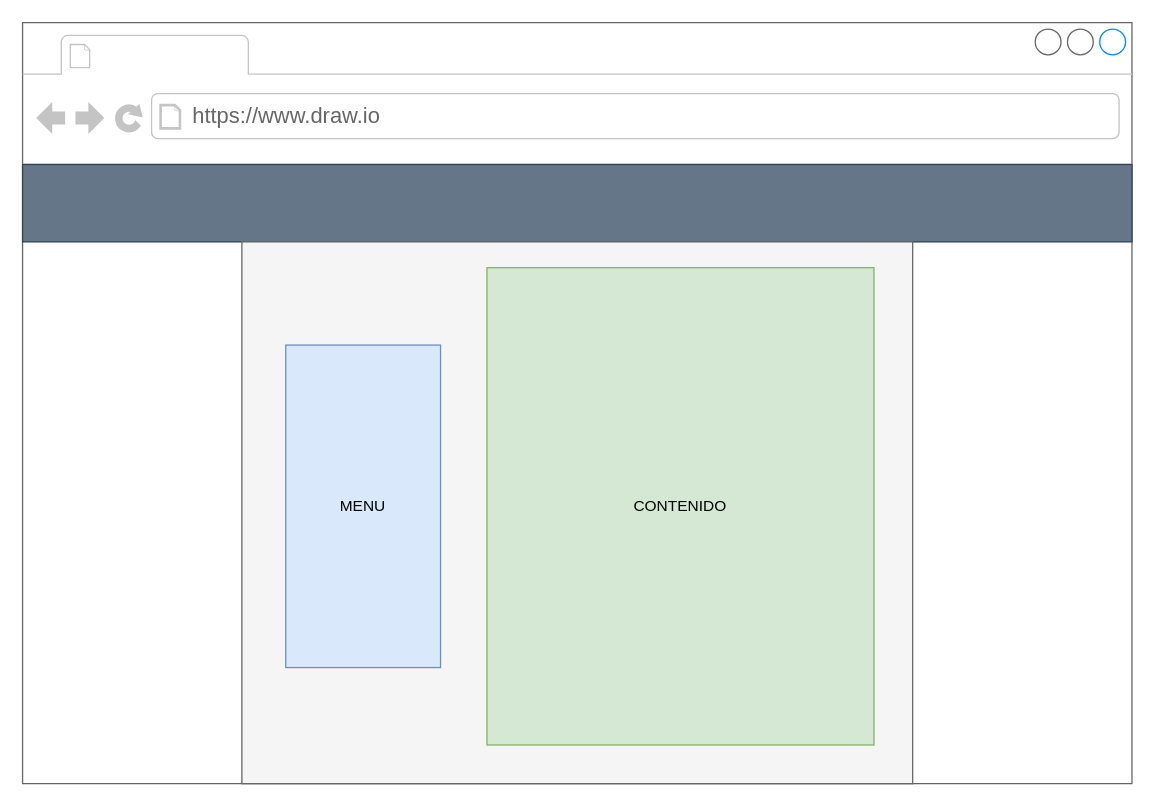
Image size: 1155x806. Some labels were removed from this diagram. The shapes that lost their labels are listed below. From the top down, each one's centre as x and y in pixels, then its label:
At (x=170, y=54): "Page 1".
At (x=576, y=202): "LOGO".
